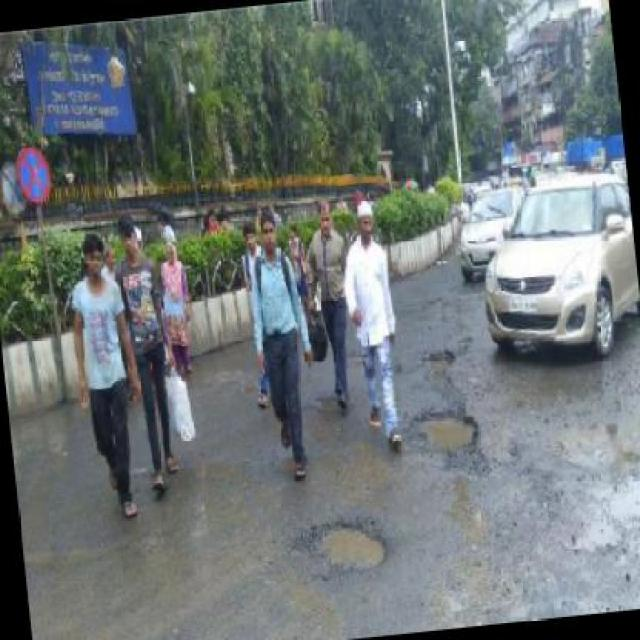pothole1: (315, 510, 391, 573), (409, 401, 482, 462), (423, 342, 460, 373)
